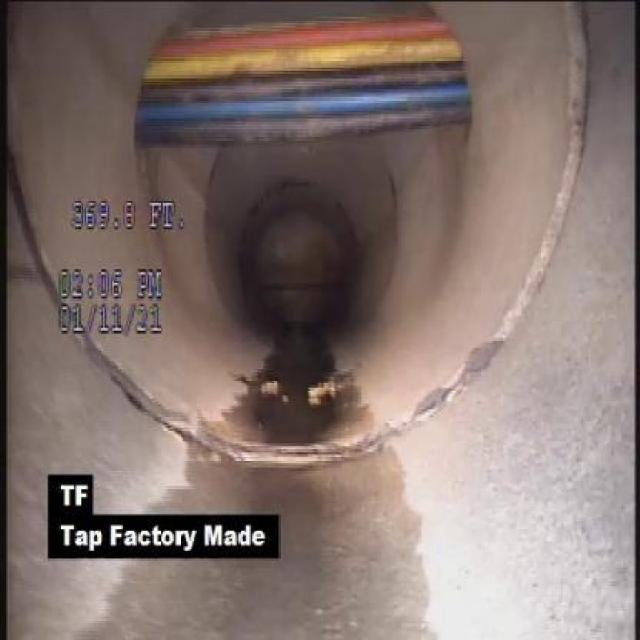Utility intrusion: (124, 1, 484, 156)
